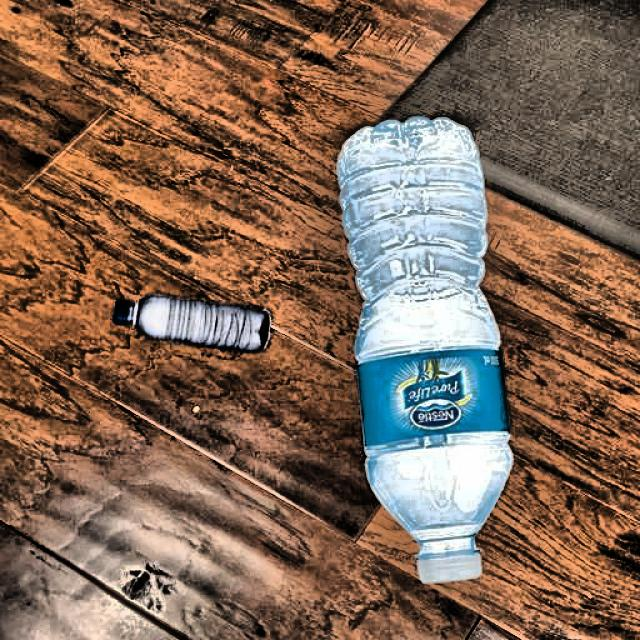plastic bottle: (339, 118, 514, 584), (114, 295, 271, 352)
